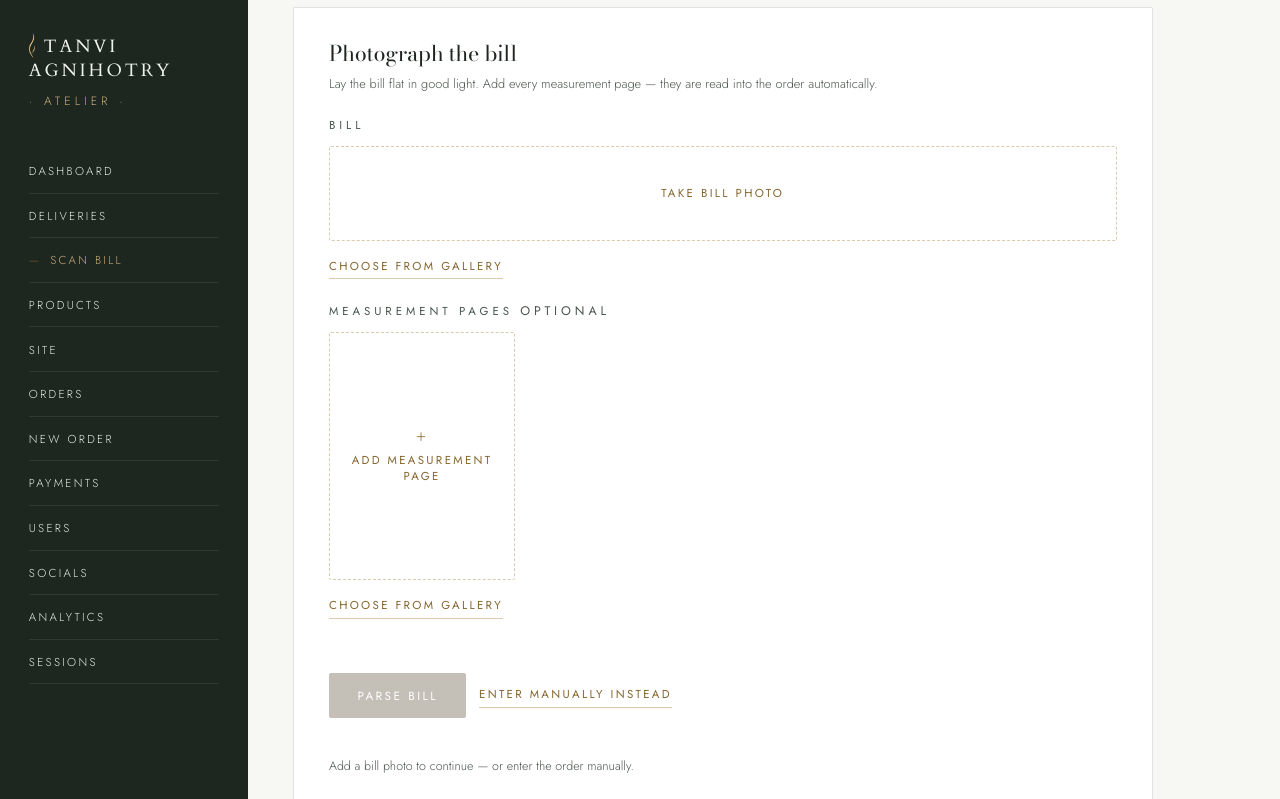
Test: BillIntake › manual skip lands on a blank review form
(page scrolled)
Click the button "Enter manually instead" at (575, 696), box left=479, top=684, right=672, bottom=708
(page scrolled)
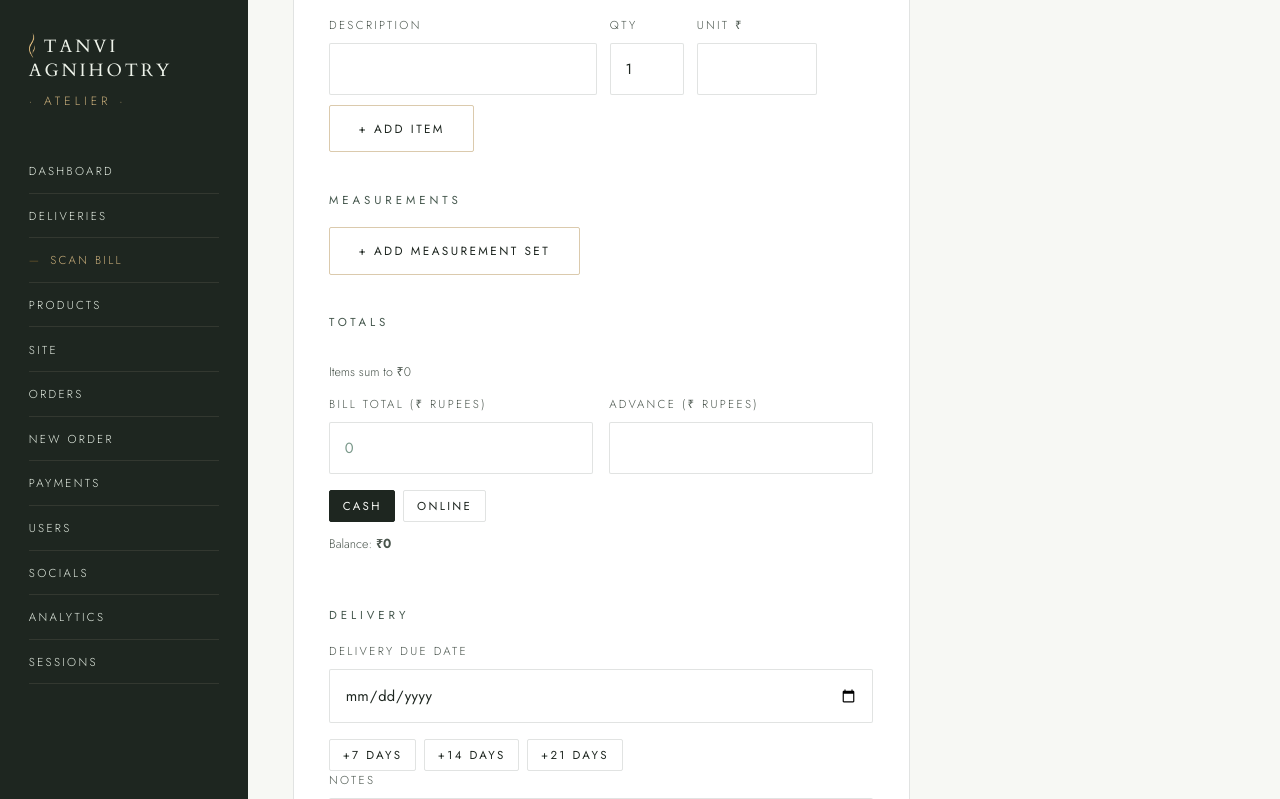
Expected: the number field labelled "Bill Total (₹ rupees)" is not empty, left=329, top=422, right=593, bottom=474
